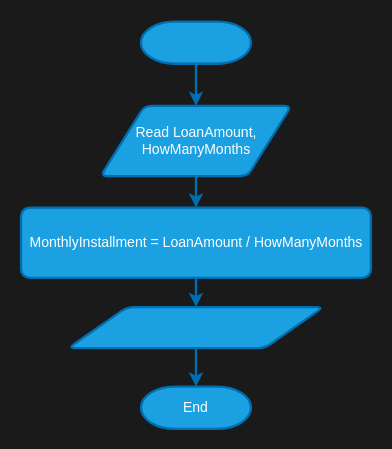
The diagram is 392 pixels wide and 449 high, and some of its shapes have lost their labels. The centre of each missing label's shape, as x and y in pixels:
"Print MonthlyInstallment" goes at point 195,327.
"Start" goes at point 195,42.
